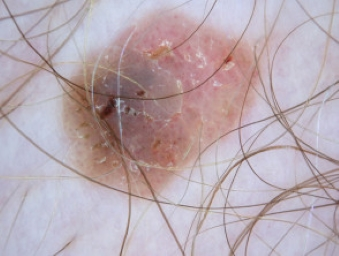seborrheic keratosis: (47, 9, 264, 217)
